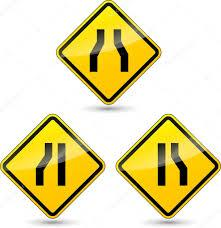narrow_road: (114, 111, 220, 221), (1, 111, 107, 220), (54, 0, 164, 105)
